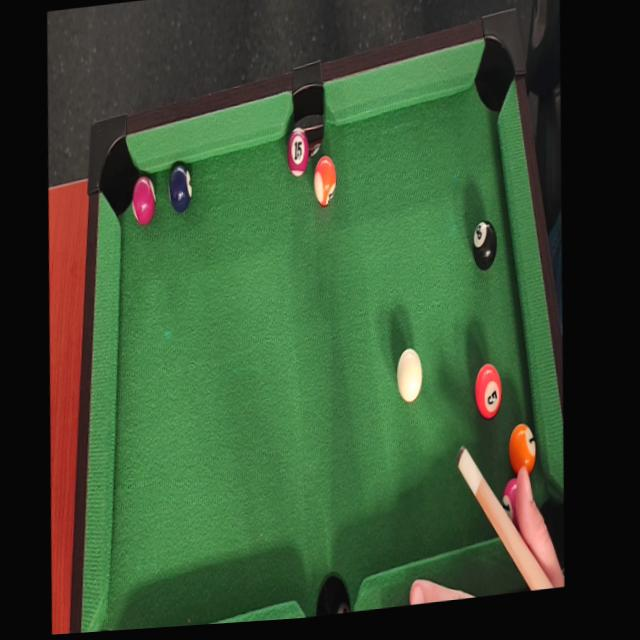cue ball: (392, 344, 426, 412)
other: (505, 416, 542, 489), (468, 351, 505, 422), (126, 168, 160, 232), (310, 147, 341, 213), (165, 155, 196, 219), (469, 213, 499, 276), (286, 122, 312, 186)
